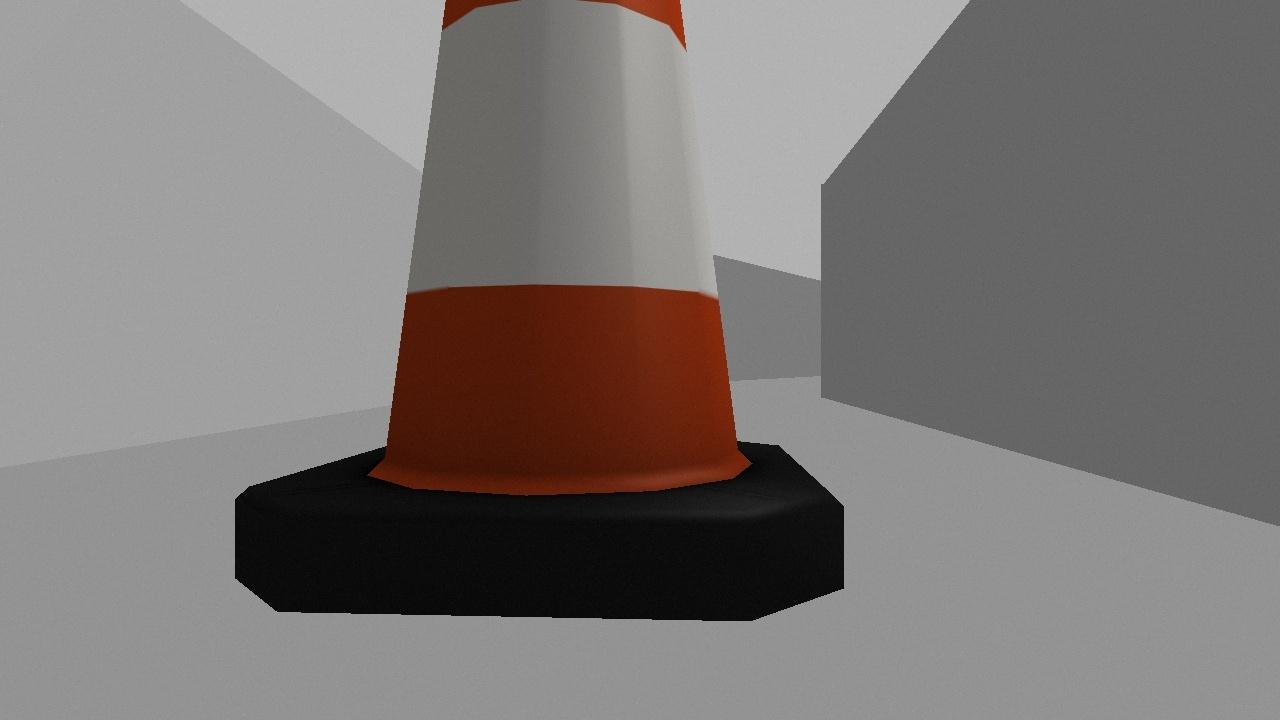cone_barrel: (232, 0, 842, 625)
